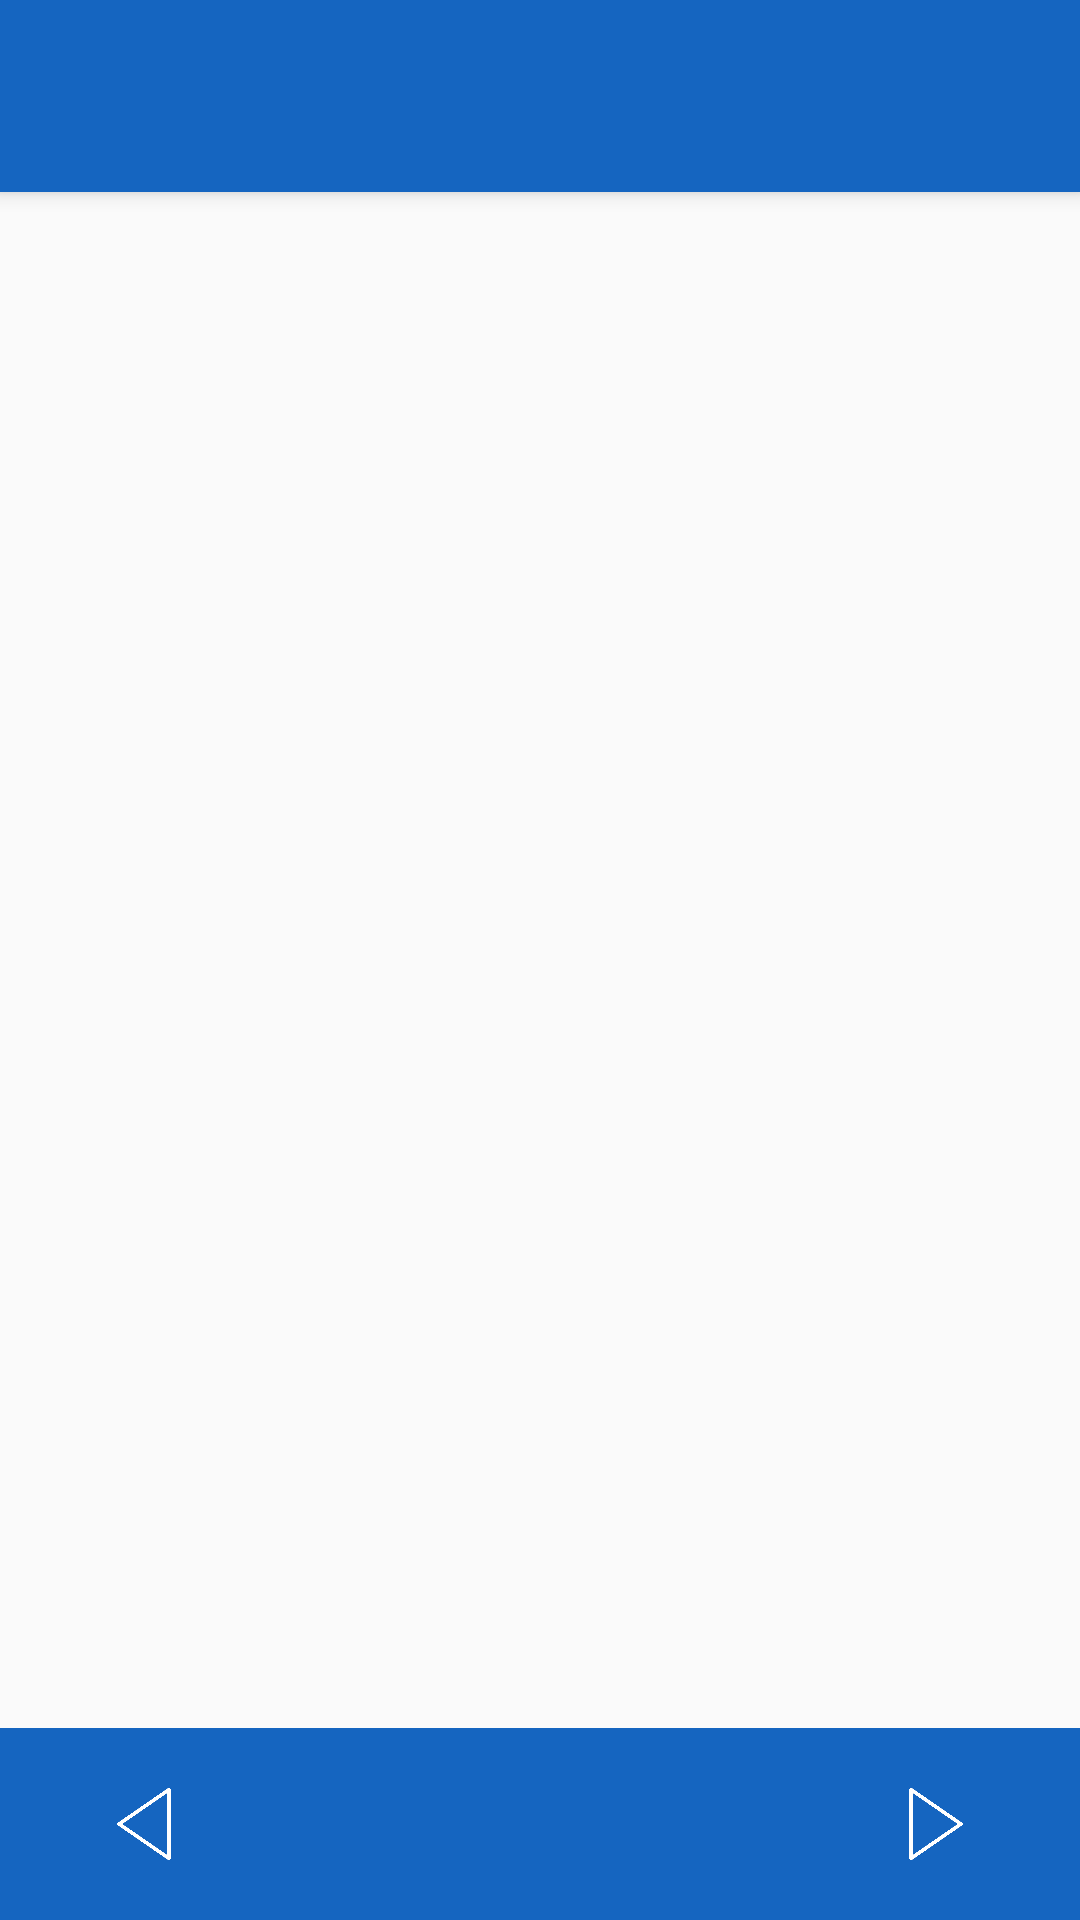

Icons on this 1080×1920 Android screen, each with its box as (x1, y1, x2, y2):
left: (117, 1788, 171, 1860)
right: (909, 1788, 963, 1860)
